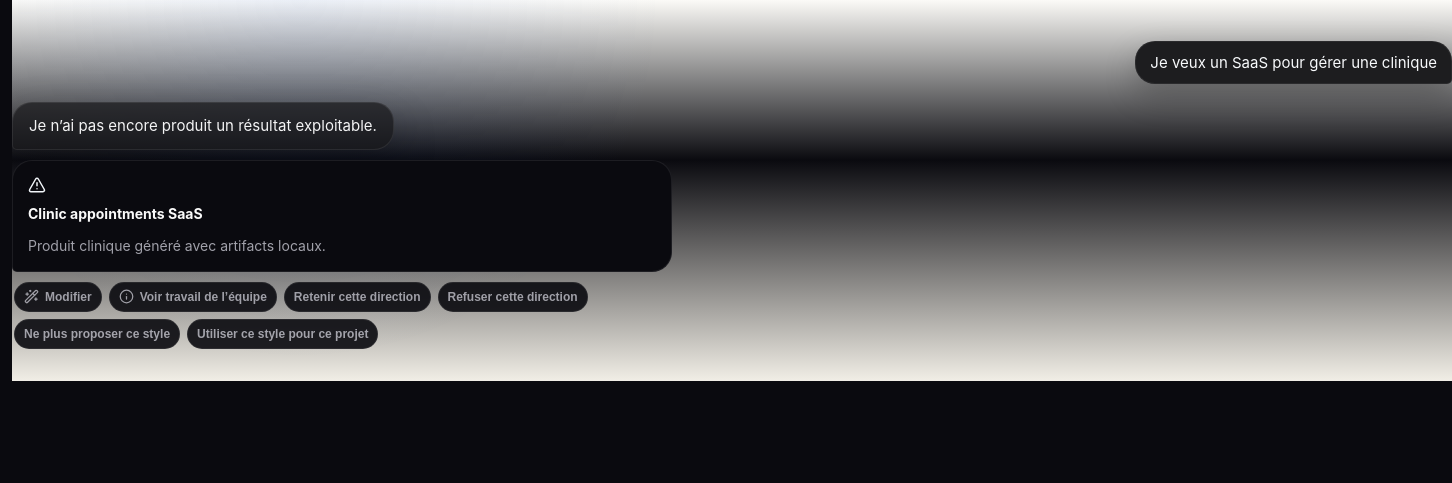
CEO command components › does not fake success when artifacts are missing
Check: the text "Je n’ai pas encore produit un résultat exploitable." is shown, box [12,102,394,150]
Click the button "Voir travail de l’équipe". click: [193, 297]
box: [109,282,277,312]
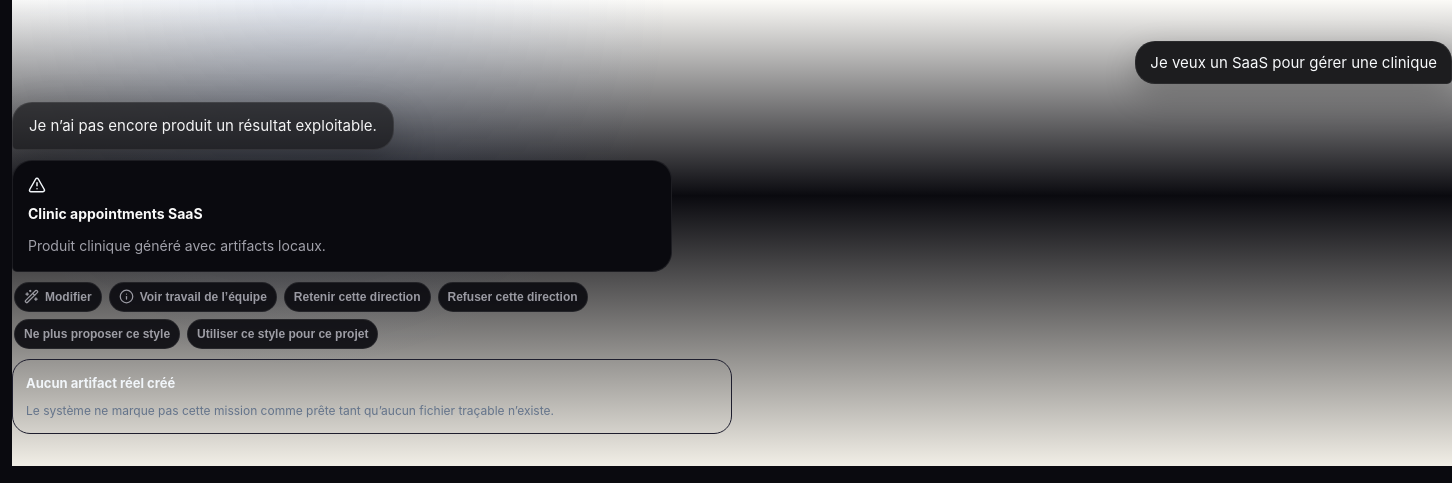
Check: the text "Aucun artifact réel créé" is shown, box [26,375,175,391]
